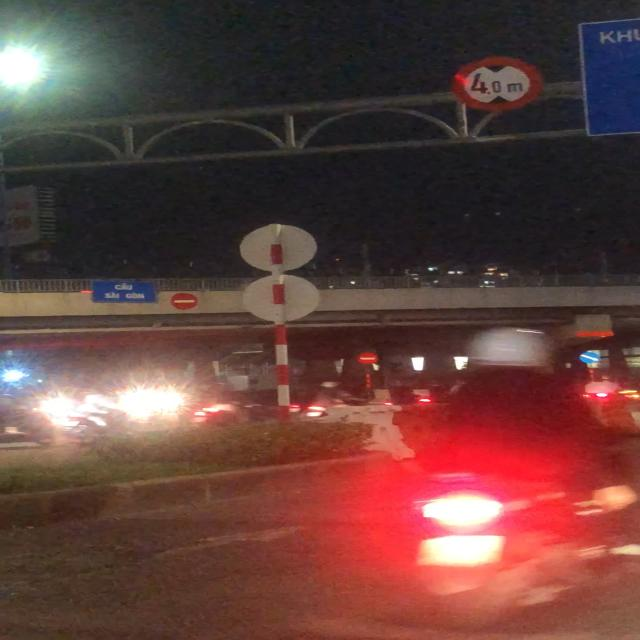Bien bao cam di nguoc chieu: (168, 291, 202, 311), (356, 350, 380, 365)
Bien bao han che chieu cao: (453, 55, 540, 112)
Bien bao huong phai di vong chuong ngai vat: (577, 350, 605, 367)
